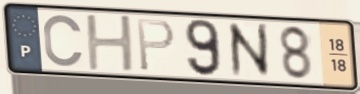8: (277, 23, 317, 82)
9: (184, 17, 223, 78)
C: (41, 13, 87, 70)
H: (83, 14, 138, 74)
N: (224, 21, 275, 80)
P: (134, 17, 177, 74)
